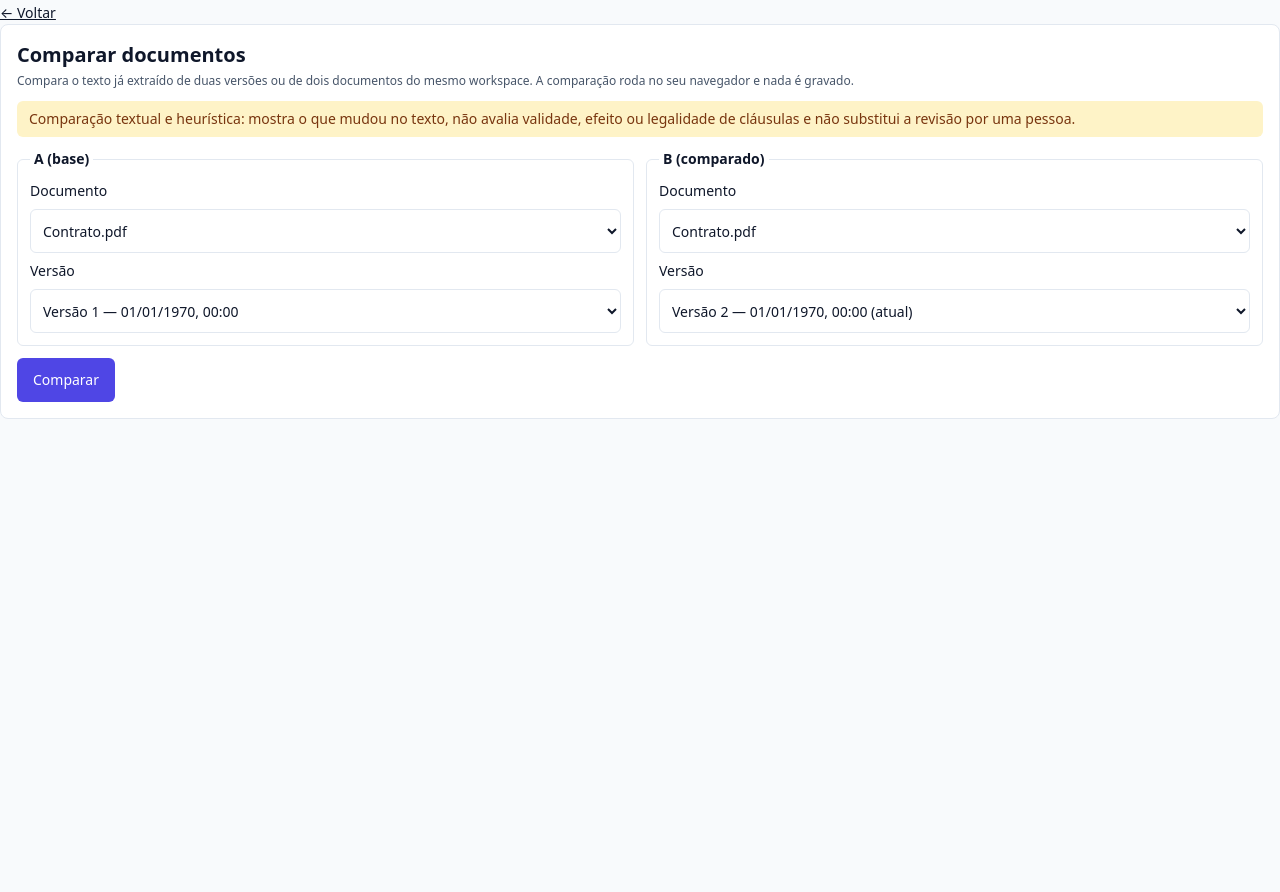
Test: ComparePage › exporta CSV, JSON e Markdown sem enviar nada ao servidor
Later steps or results of the test are not shown.
Click the button "Comparar" at (66, 380), box 17,358 -> 115,402
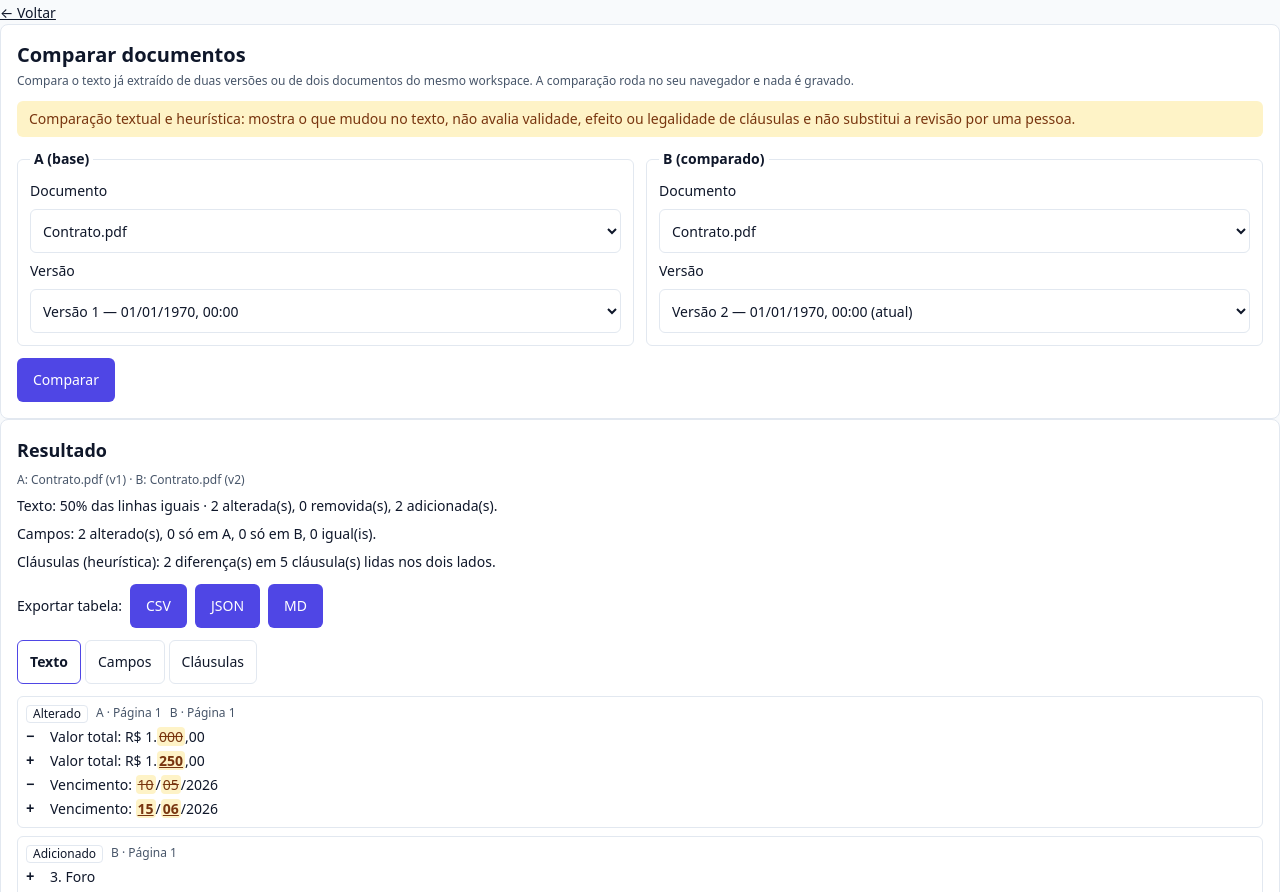
Result: the text "linhas iguais" is shown at 17,496 -> 497,515
